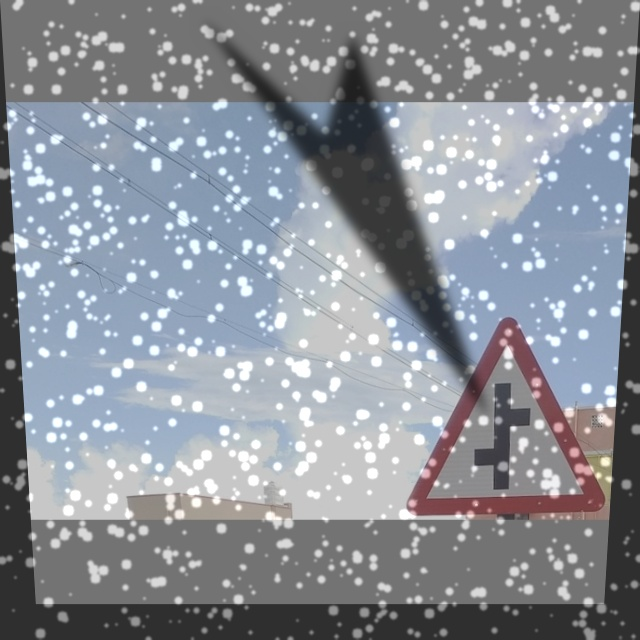Staggered_Intersection: (394, 318, 611, 509)
